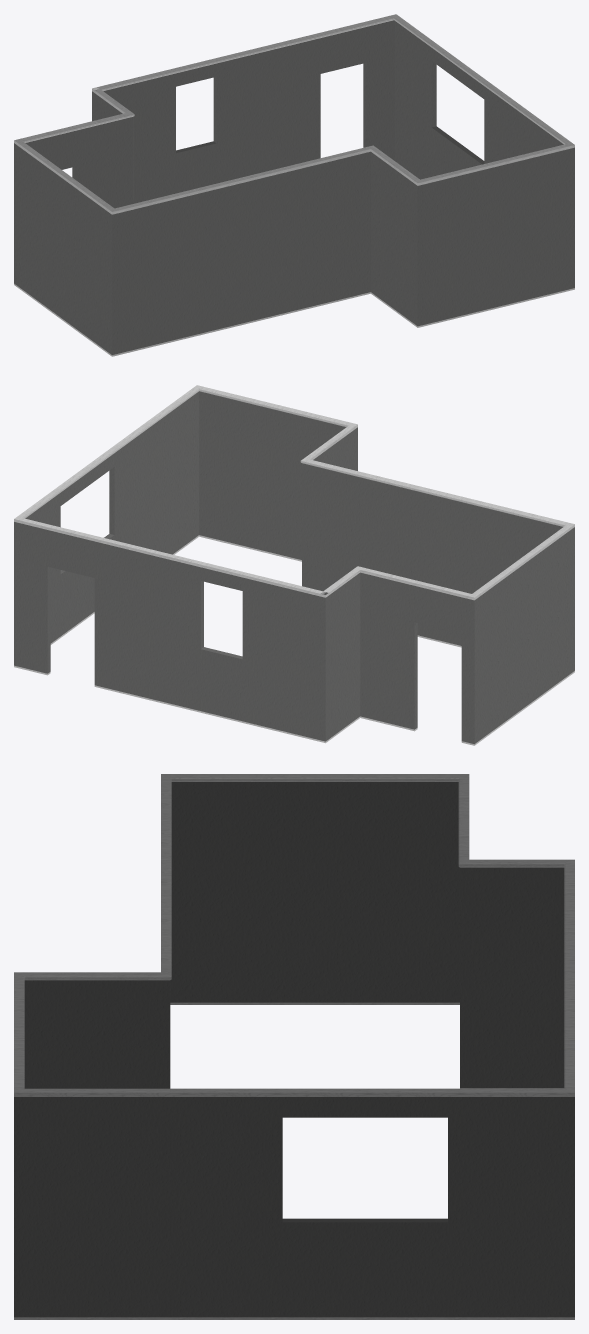
The model's file is StandardWallSize_5698fe81.obj.
3 views of the same model, one above another, from view 1: azimuth 30°, elevation 25°; view 2: azimuth 150°, elevation 25°; view 3: azimuth 270°, elevation 25° (orthographic). The views are drawn at different scales.
Parts seen in each view (by area): view 1: StandardWallSize_5698fe81; view 2: StandardWallSize_5698fe81; view 3: StandardWallSize_5698fe81.
Boxes of the visible parts, bbox=[...] form: StandardWallSize_5698fe81: bbox=[14, 14, 574, 356]; StandardWallSize_5698fe81: bbox=[14, 385, 574, 745]; StandardWallSize_5698fe81: bbox=[14, 774, 574, 1319].
Bounding box in the file's own units: 8.2 × 2.72 × 6.1.
